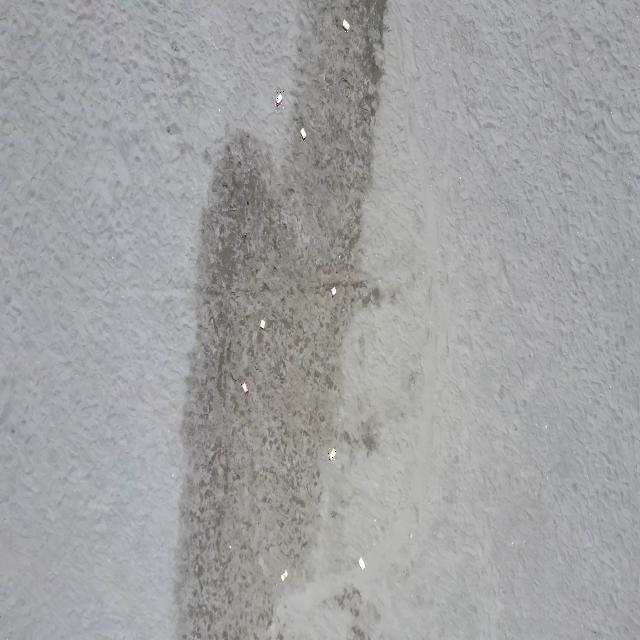Garbage: (357, 556, 364, 569), (240, 380, 247, 393), (328, 448, 335, 460), (280, 569, 287, 580), (300, 127, 306, 139), (342, 19, 348, 31), (276, 92, 281, 105), (259, 320, 264, 328), (332, 286, 335, 296)
